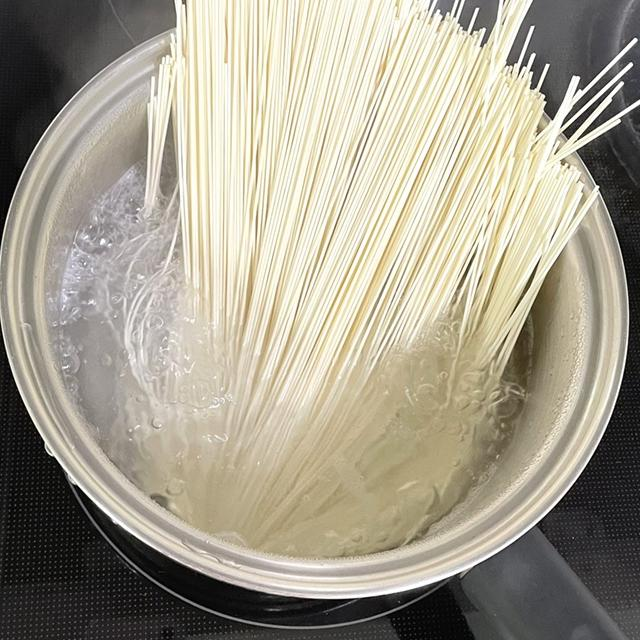noodles: (162, 0, 558, 476)
